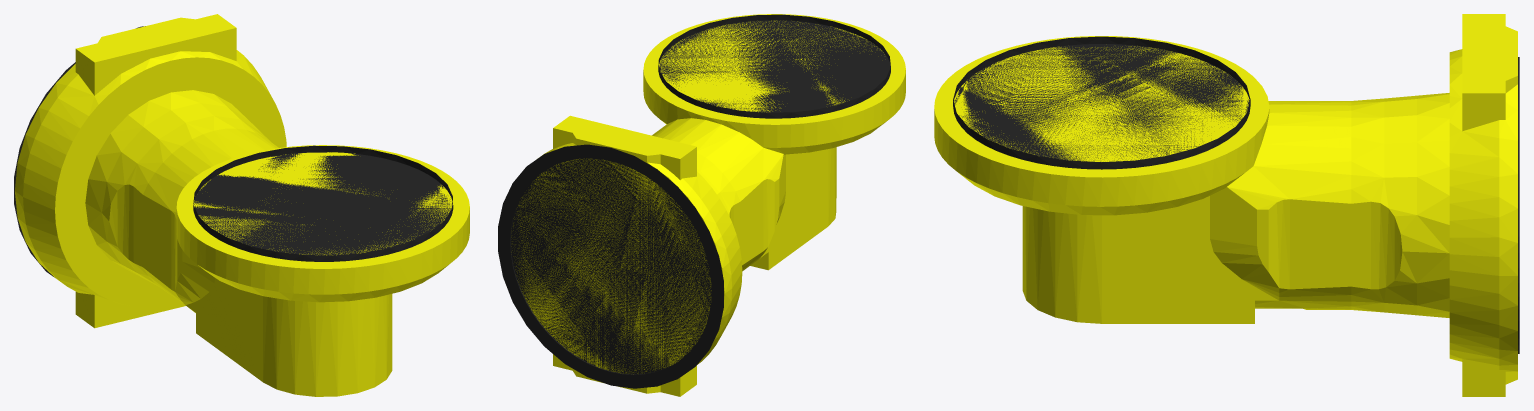
3 views of the same model, side by side, from view 1: azimuth 30°, elevation 25°; view 2: azimuth 150°, elevation 25°; view 3: azimuth 270°, elevation 25° (orthographic). The views are drawn at different scales.
Visible parts, largest first — view 1: node; view 2: node; view 3: node.
Boxes of the visible parts, left/top/right/bottom form: node: left=14, top=14, right=469, bottom=396; node: left=498, top=14, right=905, bottom=396; node: left=934, top=14, right=1519, bottom=396.
Bounding box in the file's own units: 186 × 186 × 325.
